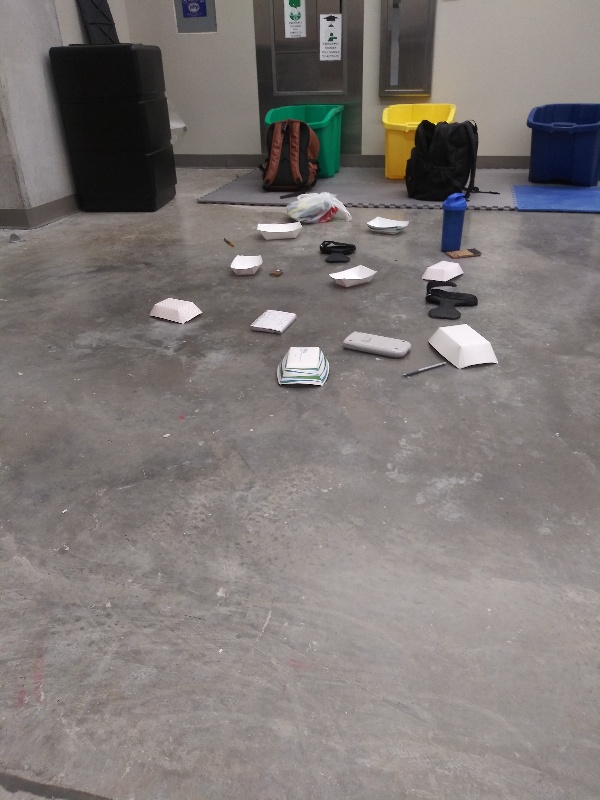plate: (424, 322, 504, 371), (273, 344, 336, 391), (145, 293, 204, 327), (325, 262, 381, 290), (418, 259, 467, 285), (254, 217, 304, 242), (364, 214, 414, 238), (226, 250, 267, 279)
